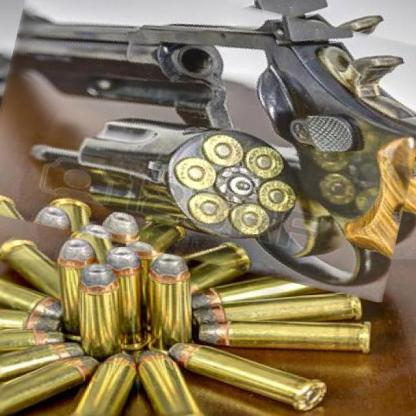handgun: (0, 0, 416, 281)
